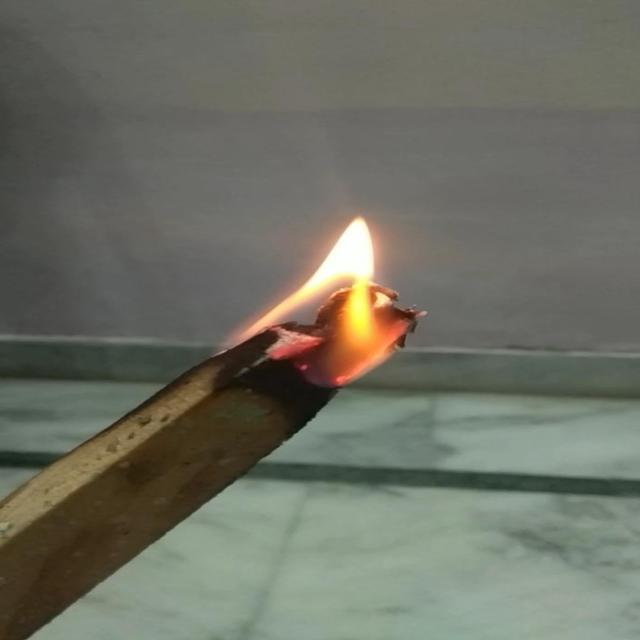smoke: (221, 208, 441, 388)
